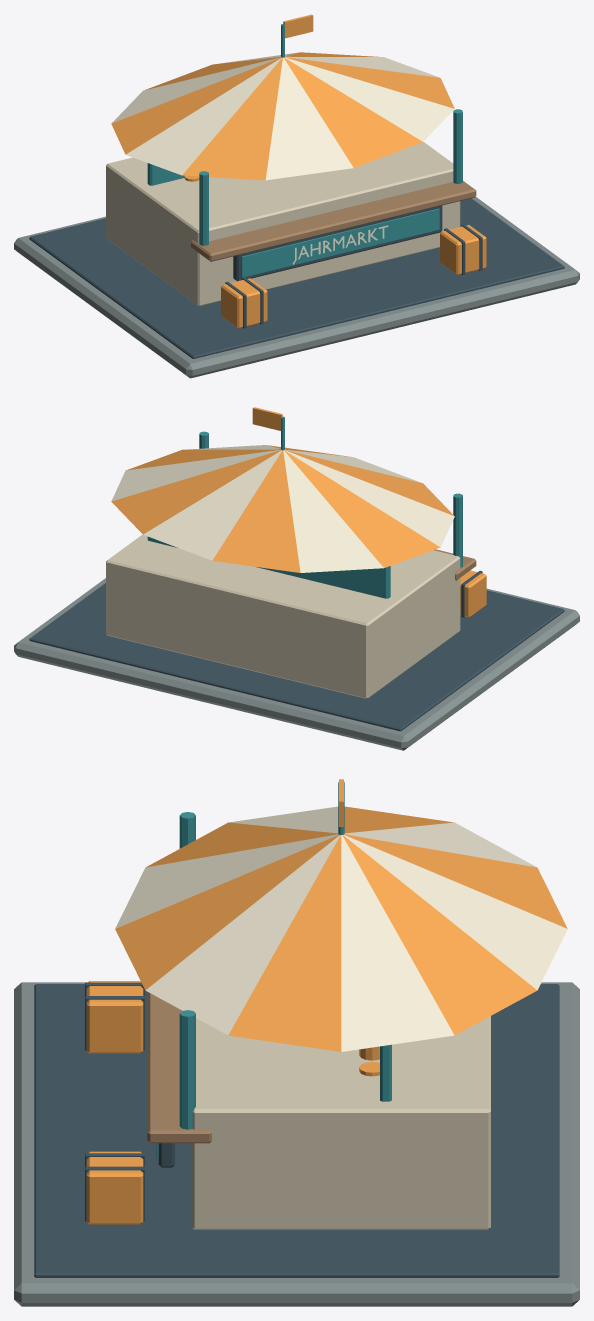
Rendered from fair.glb.
The picture shows the model from 3 angles, top to bottom: view 1: azimuth 30°, elevation 25°; view 2: azimuth 150°, elevation 25°; view 3: azimuth 270°, elevation 25°; orthographic projection. The views are drawn at different scales.
Visible parts, largest first — view 1: fair; view 2: fair; view 3: fair.
Boxes of the visible parts, x1,y1,x2,y2 form: fair: [14, 14, 579, 378]; fair: [14, 407, 579, 750]; fair: [14, 779, 579, 1306].
Bounding box in the file's own units: 9 × 5.16 × 7.
